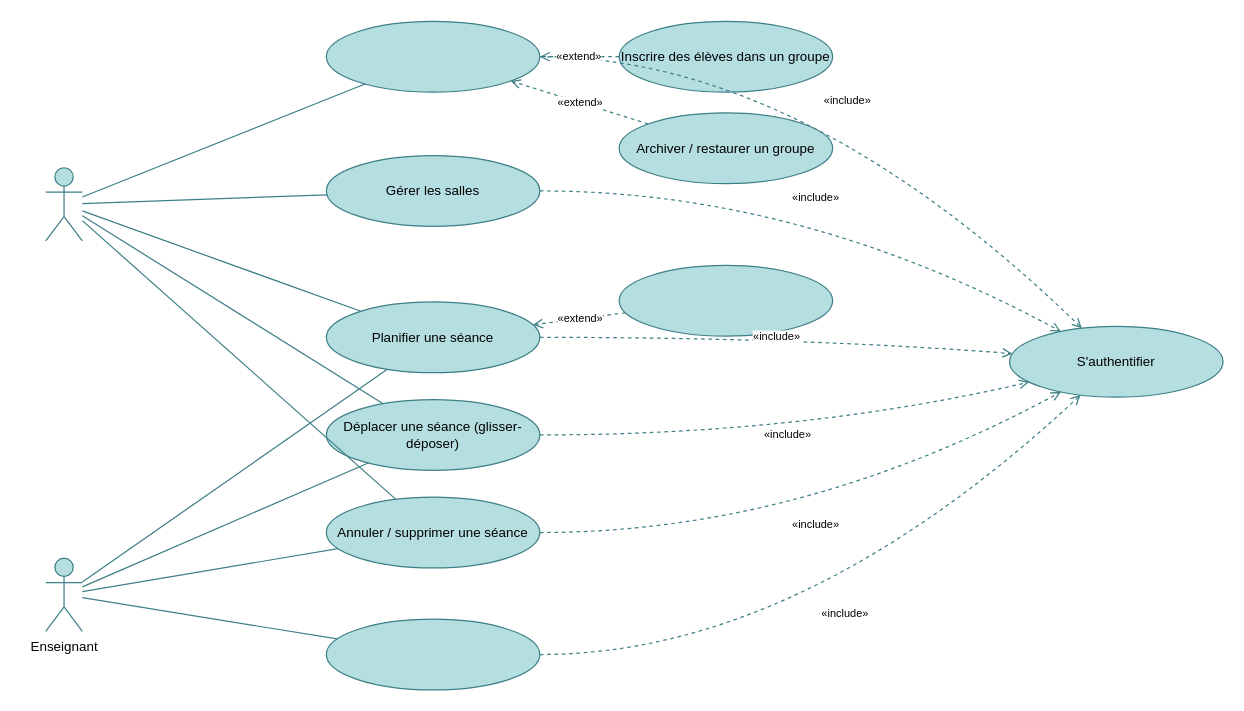
Image size: 1244x711. Some labels were removed from this diagram. Here are the shapes that lost their labels. From the top down, the centre of each, then its label:
At point (432, 56): "Gérer les groupes".
At point (63, 204): "Administrateur".
At point (725, 300): "Répéter chaque semaine".
At point (432, 654): "Consulter ses groupes".
